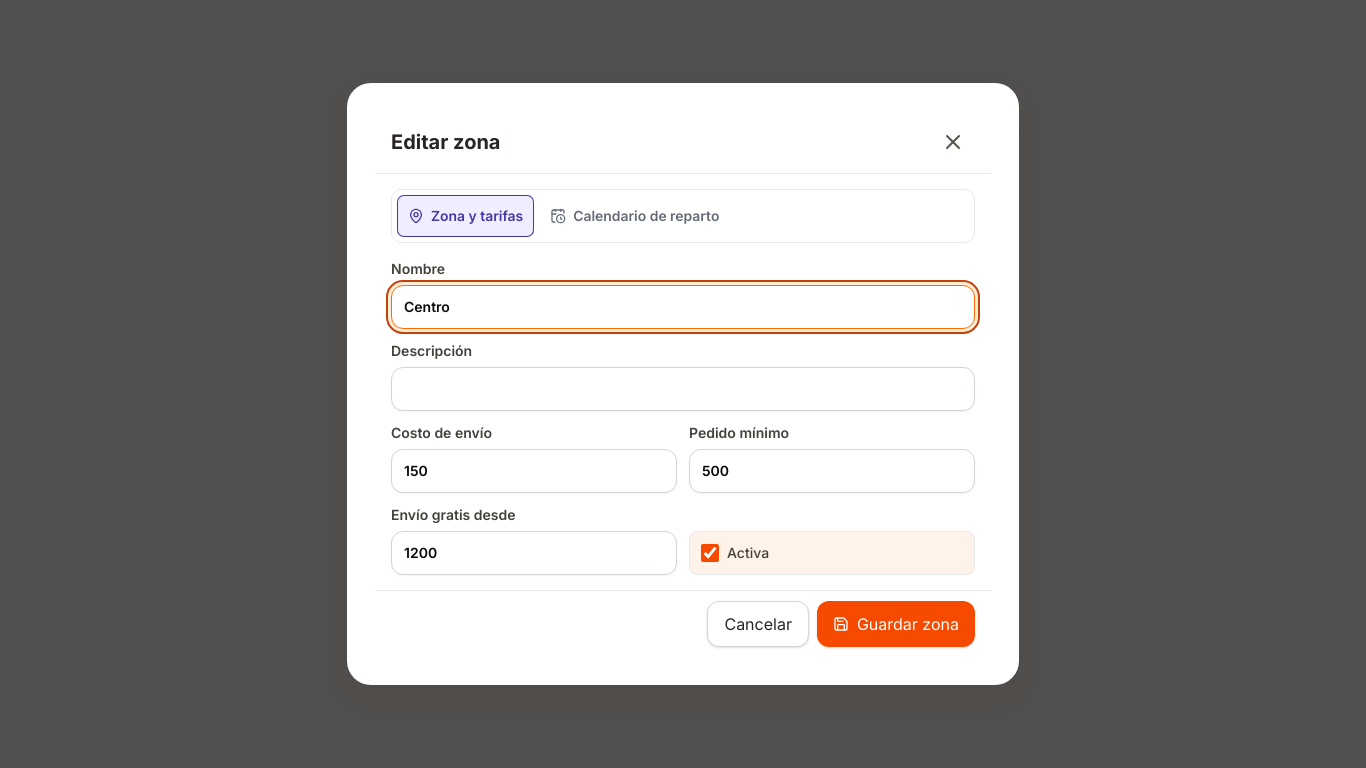
Test: delivery zone setup › rejects extra decimals instead of silently rounding shipping fees
Step 1. Replace the text in the field labelled "Costo de envío" with "150.005" → (534, 471), box [391,449,677,493]
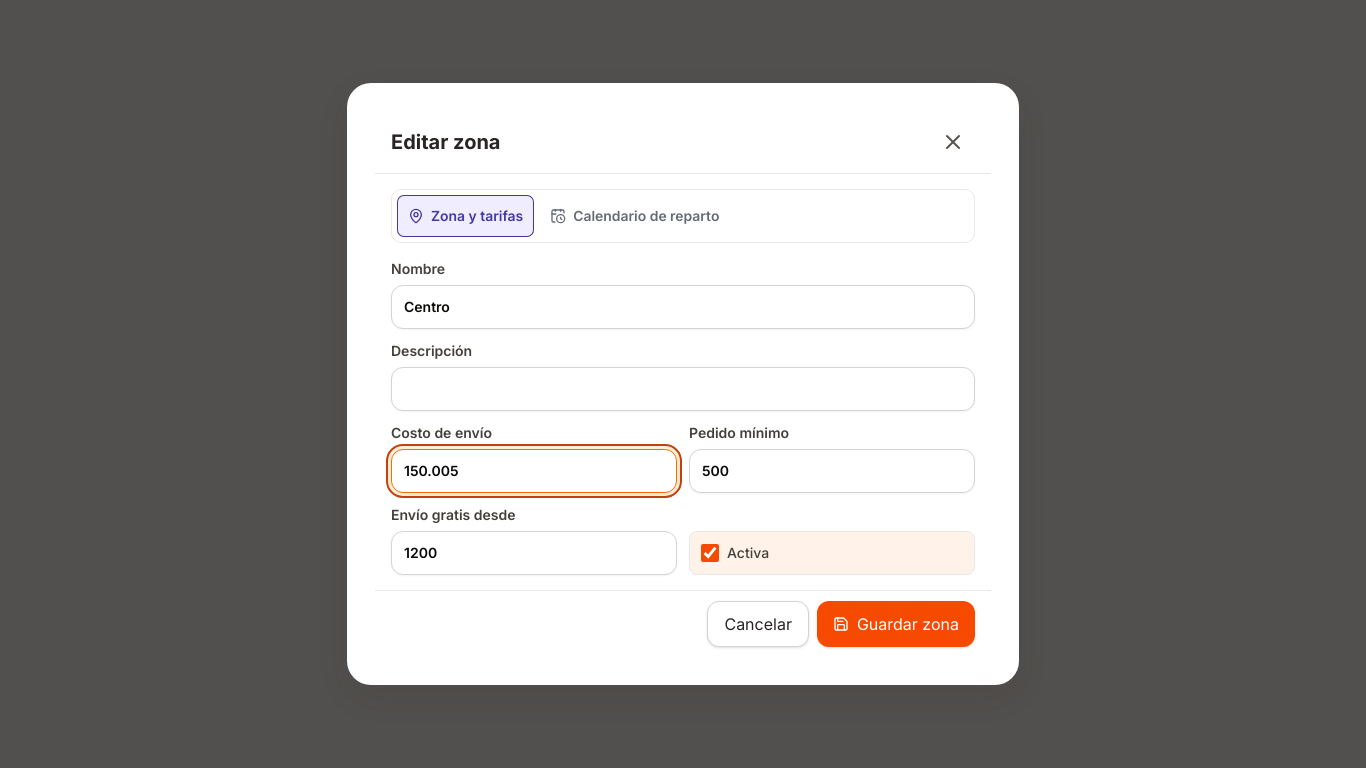
Step 2. Click the button "Guardar zona" → (896, 624), box [817,601,975,647]
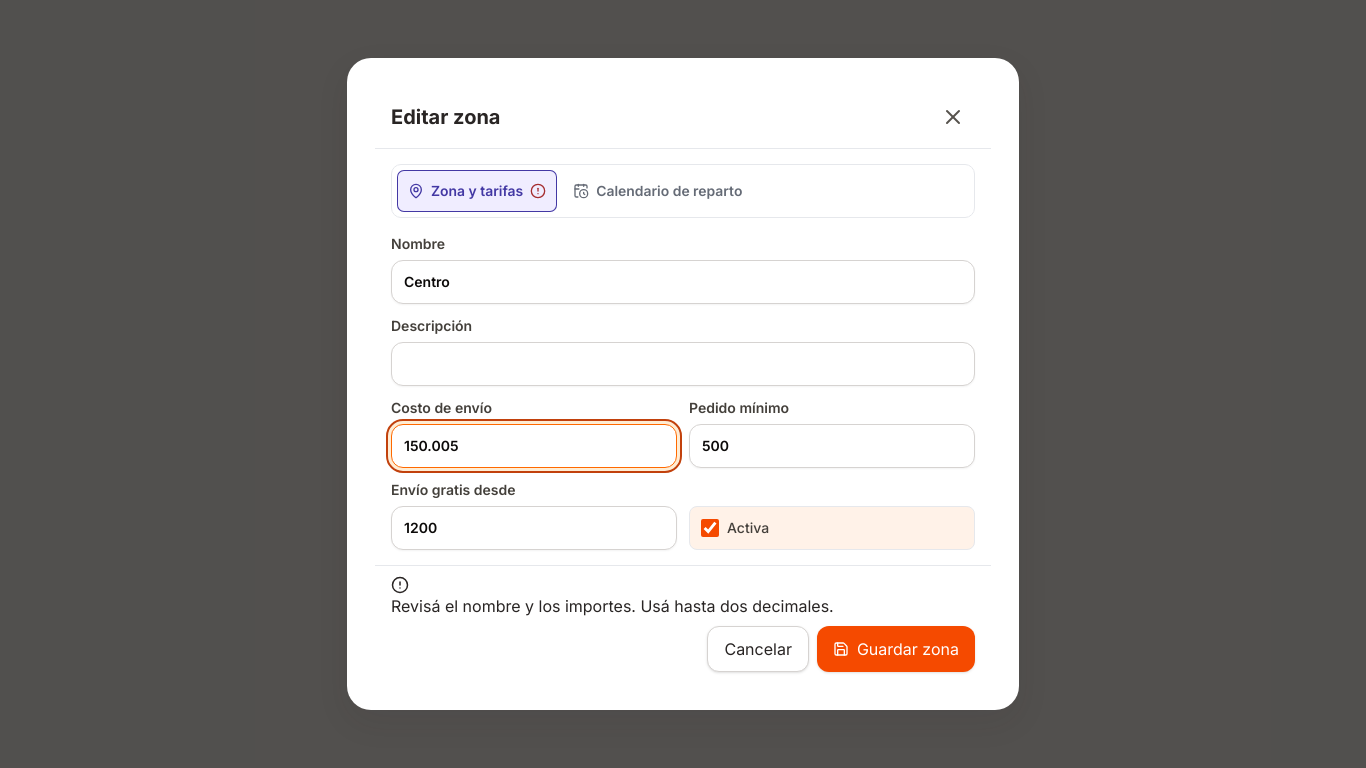
Now the message shows "hasta dos decimales", box [391,596,834,616]
